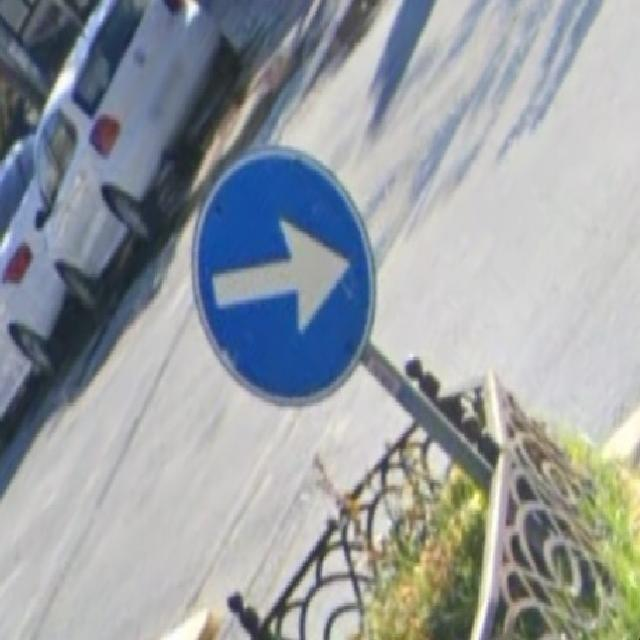Turn Right: (187, 148, 384, 407)
